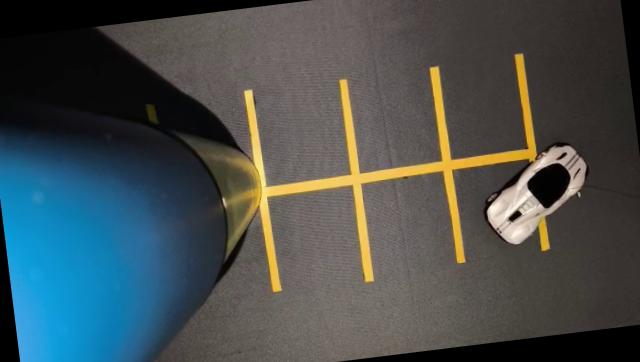toy_car: (442, 116, 612, 275)
